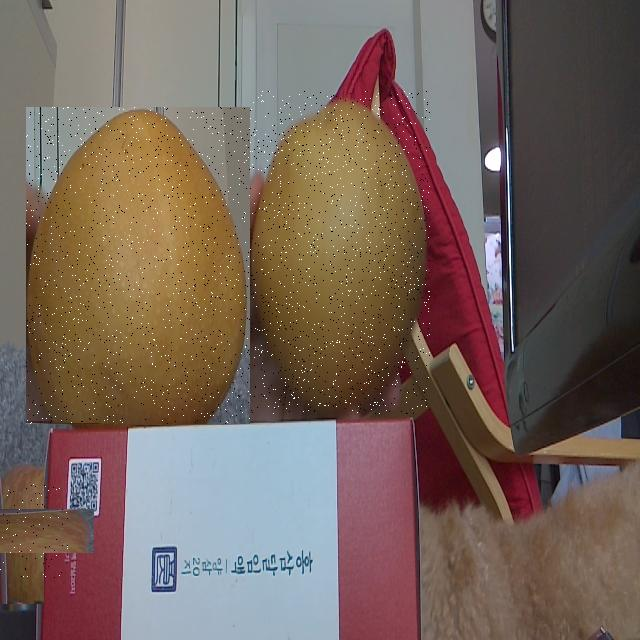apple: (0, 484, 69, 578)
pear: (26, 107, 250, 424), (249, 91, 430, 414)
